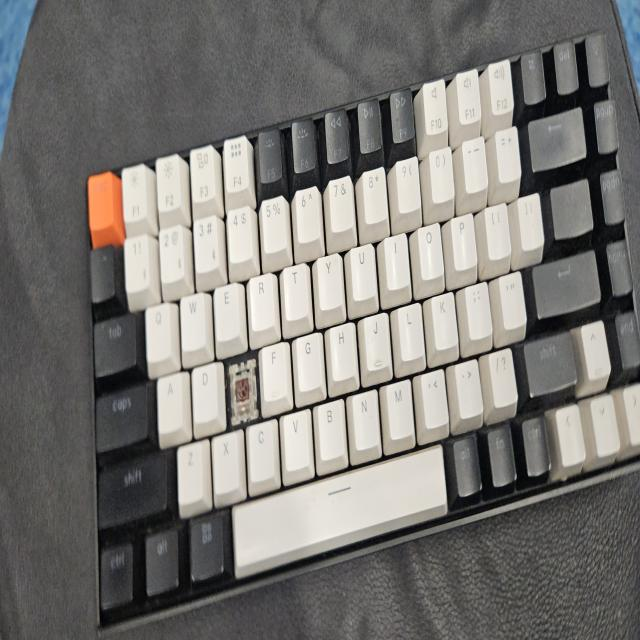C: (234, 366, 252, 419)
